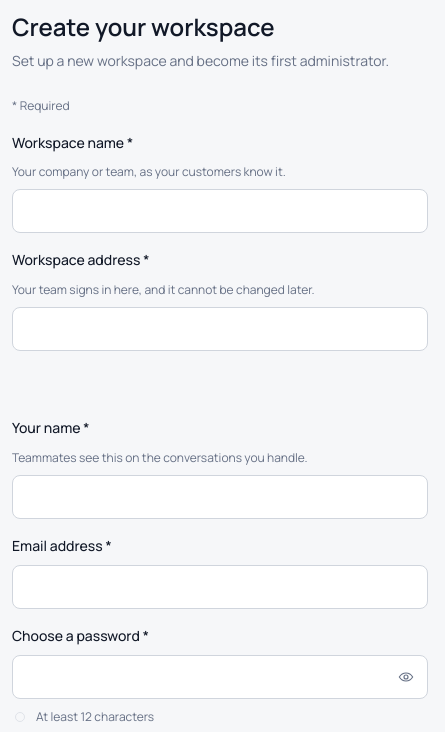
Test: SignupForm › waits for a pause in the typing before spending a check
Type "northwind" into the field labelled "Workspace address *" at (220, 329), box [12,307,428,351]
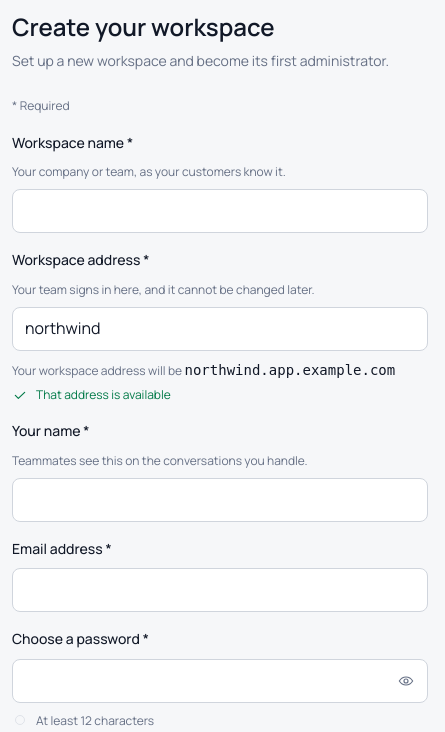
Expected: the text "That address is available" is shown, [12,386,171,403]
